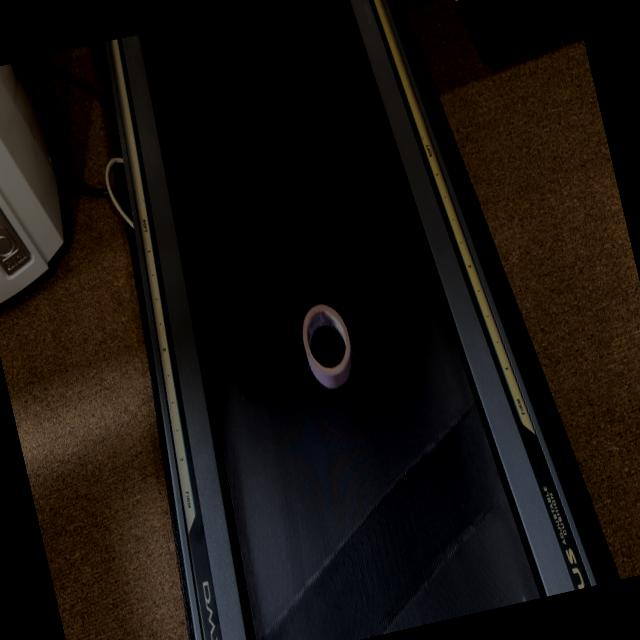Recycle: (296, 294, 374, 403)
